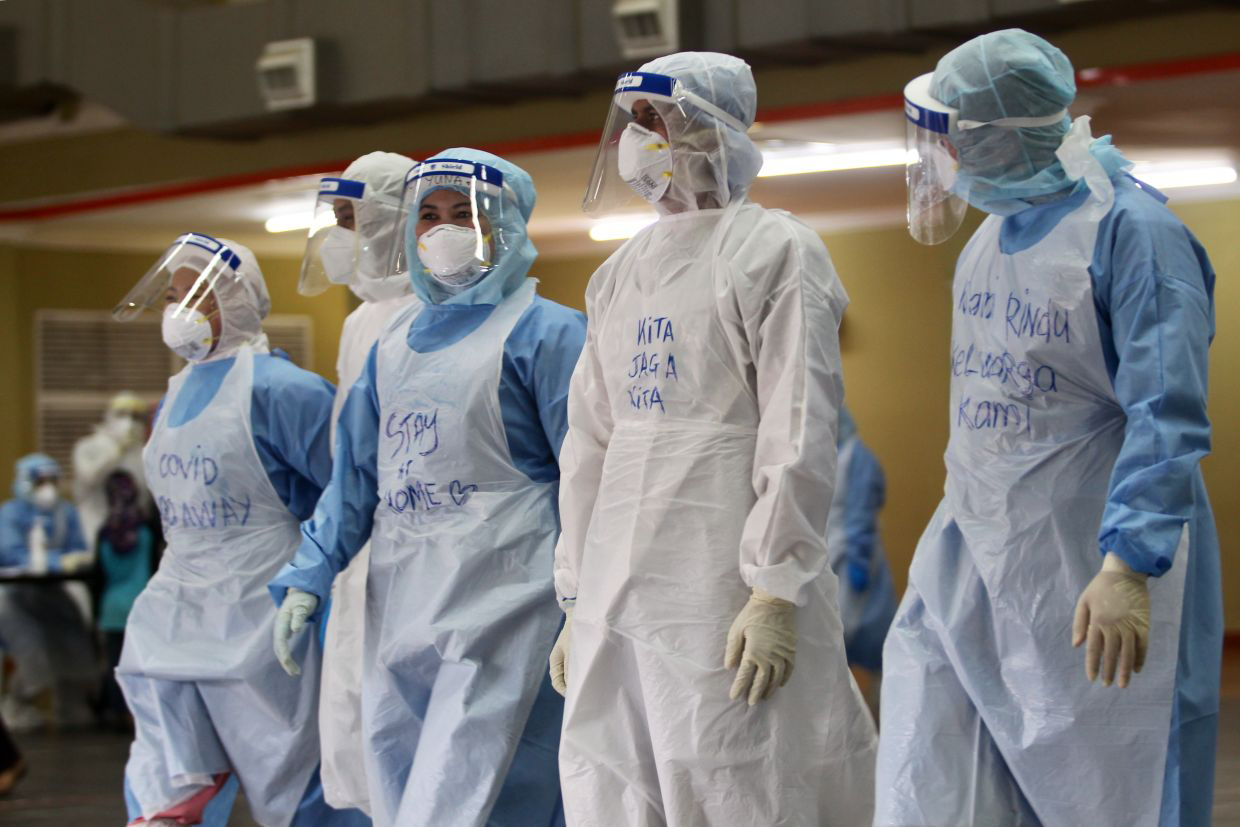Coverall: (875, 31, 1232, 827), (553, 48, 882, 827), (310, 145, 576, 827), (122, 242, 336, 827)
Gloves: (1071, 532, 1159, 689), (719, 577, 805, 717), (262, 572, 318, 684), (540, 612, 590, 696)
with_mask: (409, 200, 499, 290), (614, 104, 682, 205), (156, 281, 217, 364)
